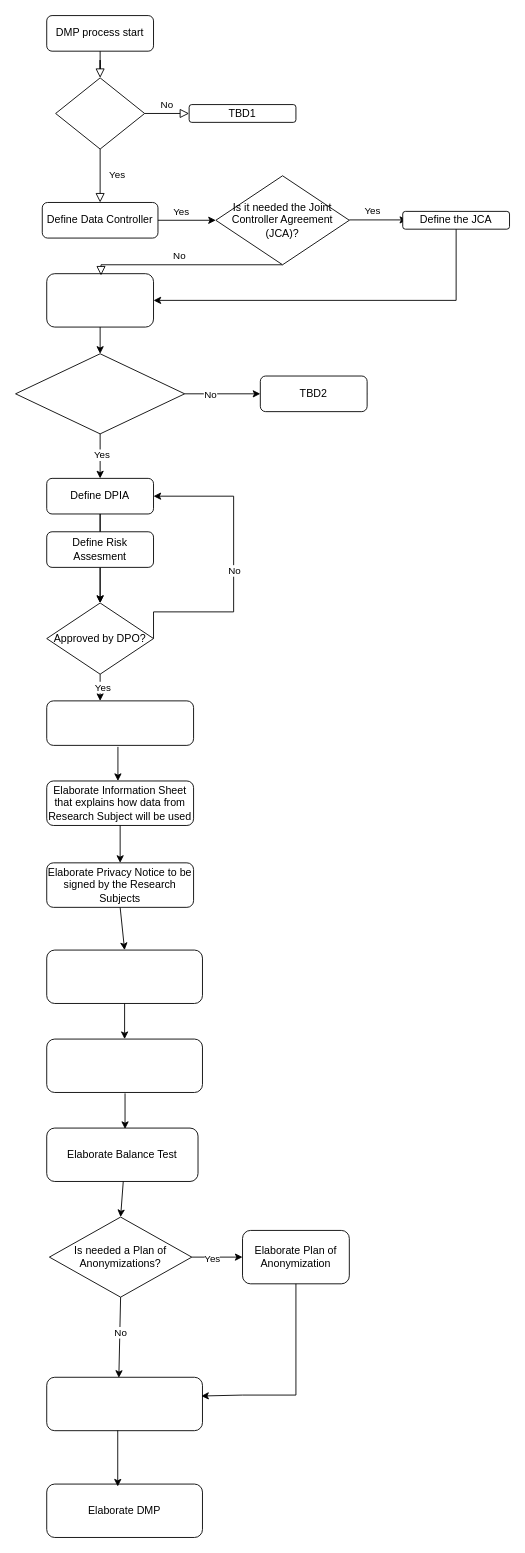
Image size: 525x1553. Some labels were removed from this diagram. Each missing label, with the centre of its shape:
Data Protection Impact Assessment (DPIA) needed?: the point at 100,393
Define Data Processor: the point at 100,300
Elaborate Consent Form to be signed by the Research subjects: the point at 120,722
Elaborate Data Processing Agreement: the point at 124,976
Elaborate Data Processing Agreement (DPA): the point at 124,1065
Elaborate Ethic Review: the point at 124,1403
Research Involve Personal Data?: the point at 100,113
